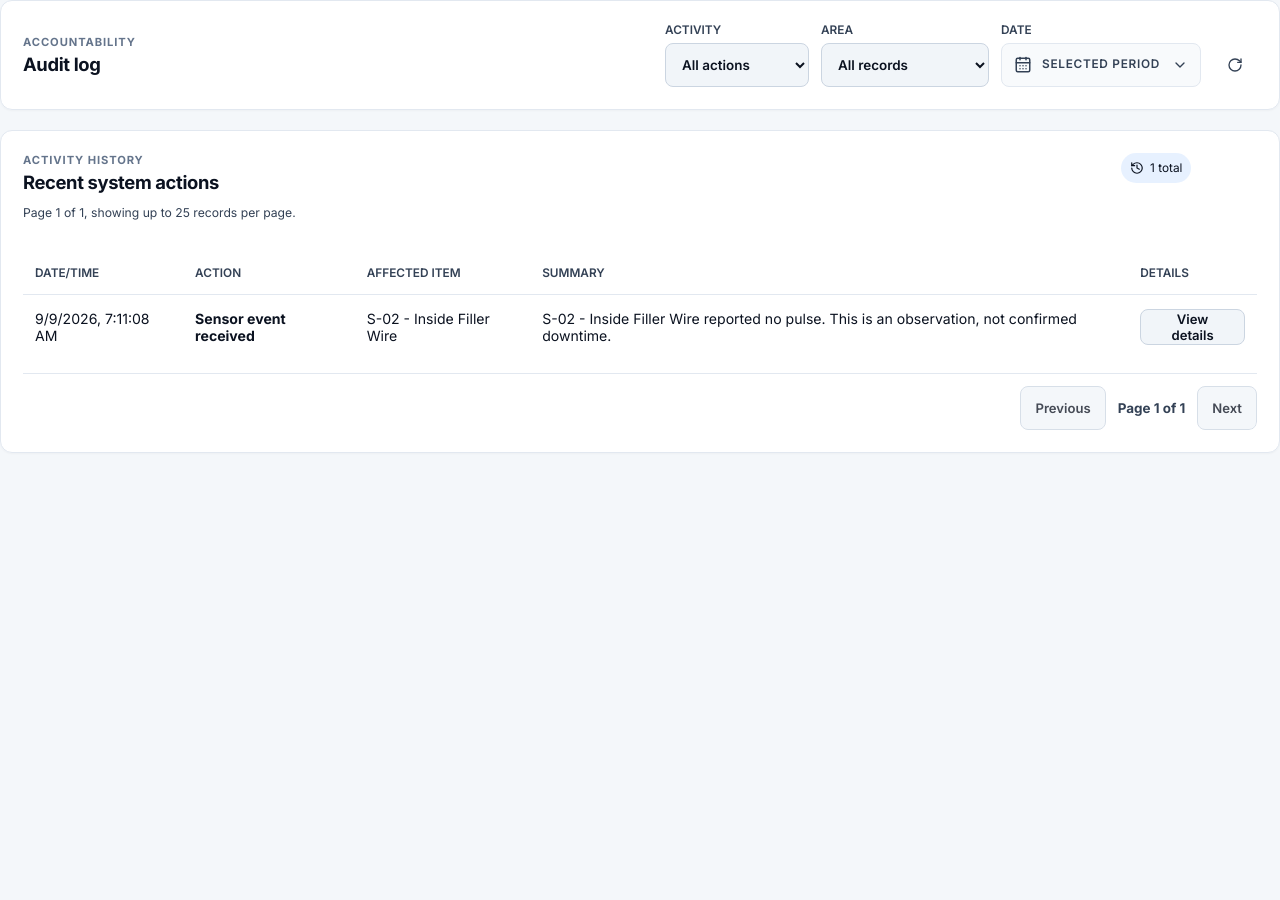
Scenario: AuditSection › describes no-pulse sensor input as an observation instead of confirmed downtime
This screenshot has width=1280, height=900.
Step 1. Click the button "View details" → (1193, 327), box [1140,309,1245,345]
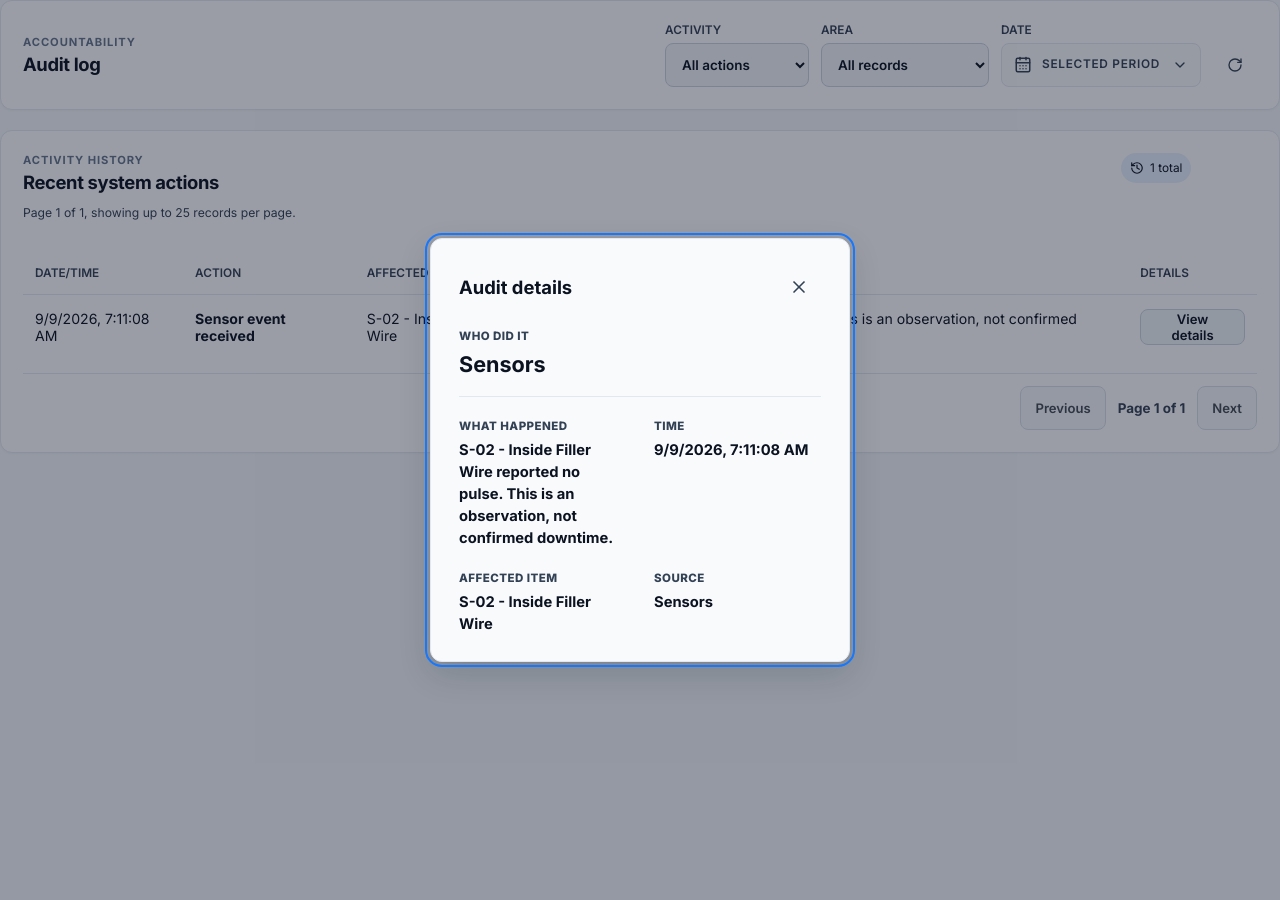
Expected: the text "Sensors" is shown 2 times, [459,351,546,377]; [654,593,713,611]
